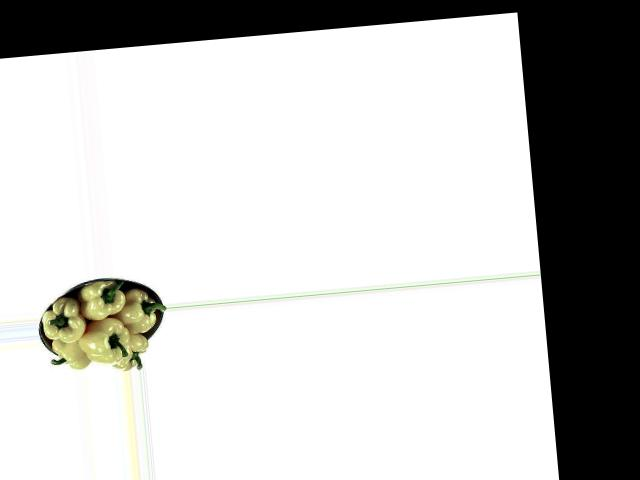bell_pepper: (109, 328, 154, 371)
